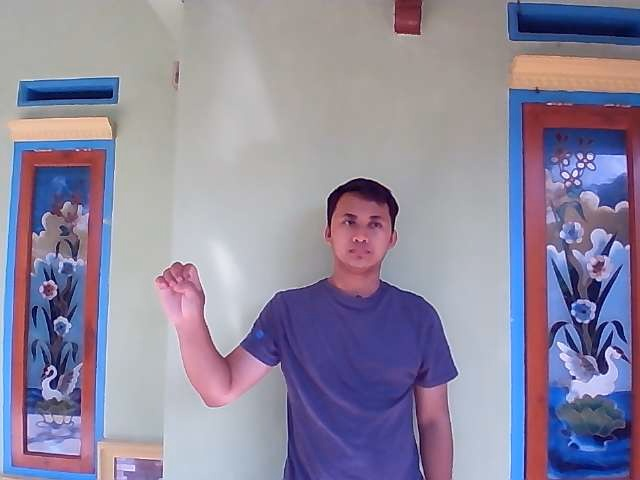E: (153, 260, 206, 320)
